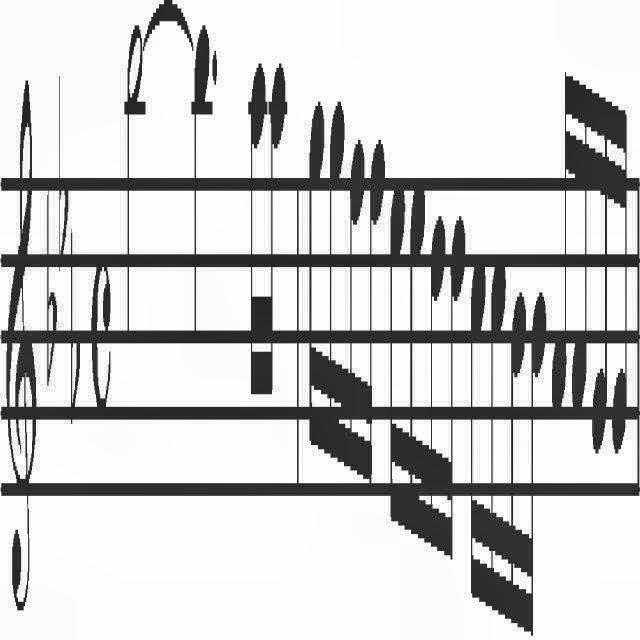Bass-clef: (5, 59, 38, 619)
Bemol: (46, 180, 58, 400), (70, 216, 80, 430), (59, 65, 69, 275)
Half-note: (127, 15, 145, 339)
Quarter-note: (193, 11, 210, 350)
Sixteenth-note: (326, 85, 346, 467), (366, 126, 386, 498), (569, 54, 589, 422), (406, 182, 426, 546), (487, 252, 507, 616), (268, 53, 288, 399), (446, 212, 466, 556), (590, 78, 608, 460), (387, 176, 405, 552), (508, 286, 528, 622), (347, 126, 365, 494), (469, 248, 487, 616), (610, 94, 628, 462), (551, 60, 569, 420), (528, 292, 546, 640), (427, 203, 445, 549), (249, 49, 267, 390), (308, 88, 324, 456)
